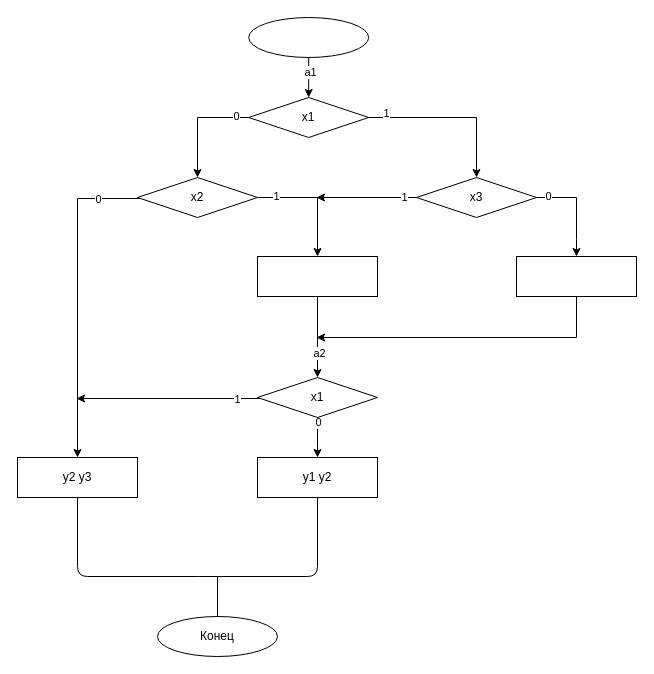
Some shapes in this 654 by 674 pixel diagram are drawn without their labels. Here are the shapes that lost their labels. From the top down, the centre of each, then its label:
At point 308,37: "Начало".
At point 317,276: "y1".
At point 576,276: "y2".
